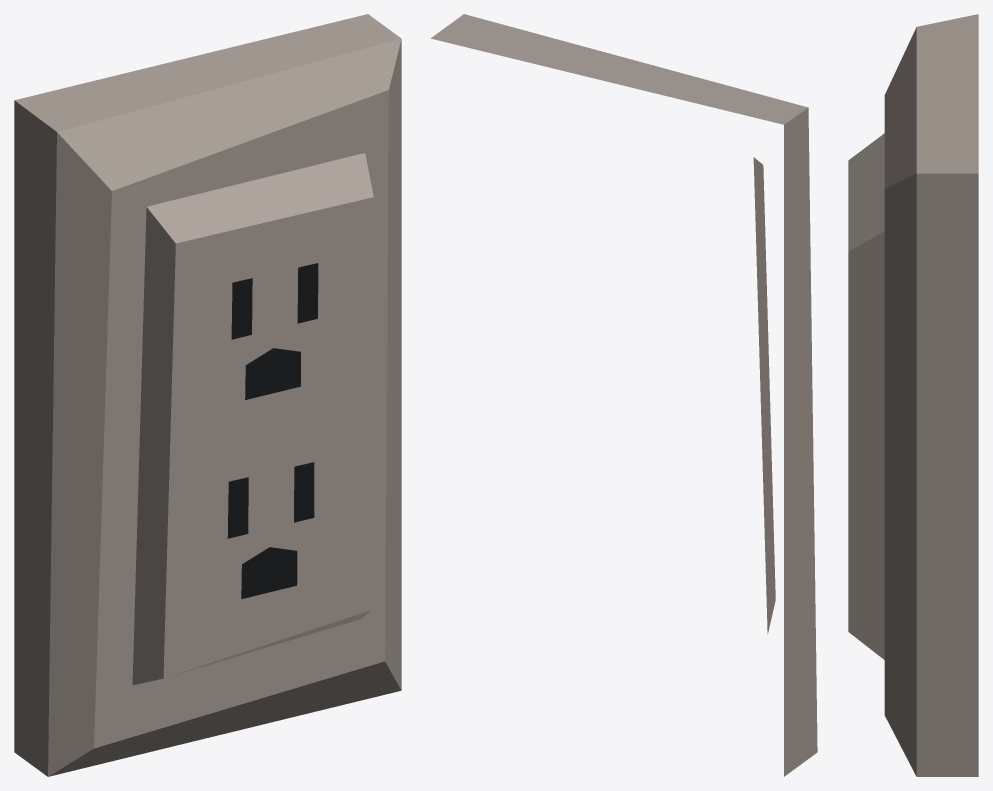
File: SM_Socket.gltf
The picture shows the model from 3 angles, left to right: view 1: azimuth 30°, elevation 25°; view 2: azimuth 150°, elevation 25°; view 3: azimuth 270°, elevation 25°; orthographic projection. The views are drawn at different scales.
Parts seen in each view (by area): view 1: SM_Socket; view 2: SM_Socket; view 3: SM_Socket.
Part boxes in pixels (x1,y1,x2,y2): SM_Socket: (14,14,401,776); SM_Socket: (431,14,817,776); SM_Socket: (848,14,978,776).
Bounding box in the file's own units: 0.127 × 0.2238 × 0.0445.
1 material, 1 textured.
